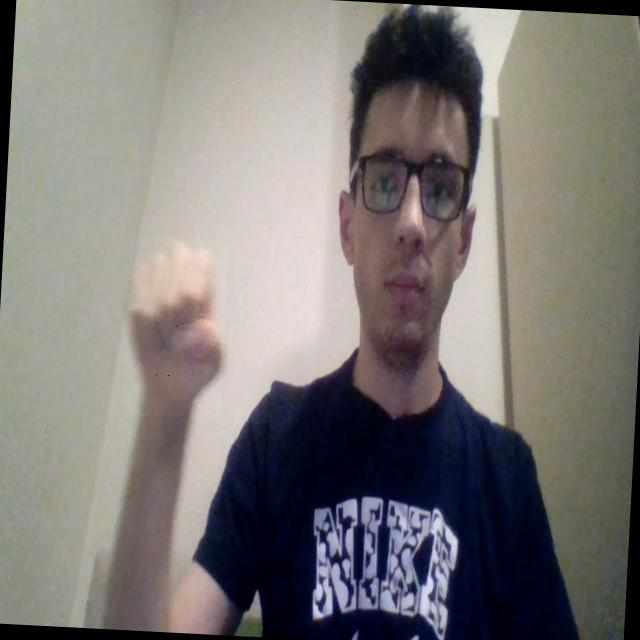yes: (122, 236, 229, 419)
